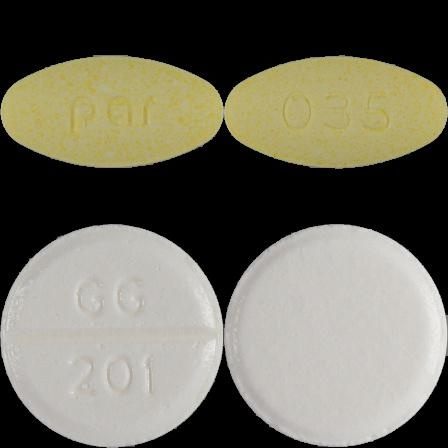49999-029: (0, 0, 224, 224)
